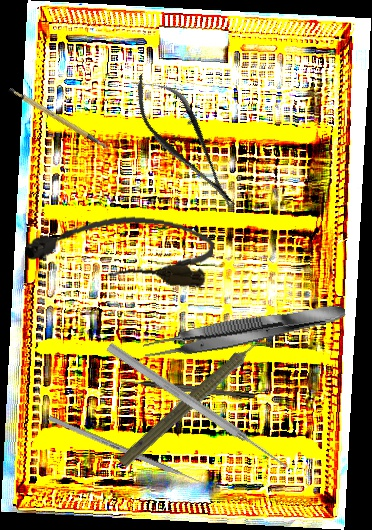Cannula: (23, 205, 216, 290)
Handpiece: (115, 327, 275, 475)
Hook Surgical: (120, 376, 255, 401)
Micro Scissor: (119, 60, 251, 223)
Pusher: (104, 340, 292, 474), (47, 415, 216, 491)
Scalpel Handle: (7, 75, 109, 164)
Tissue Forceps: (141, 297, 348, 366)
